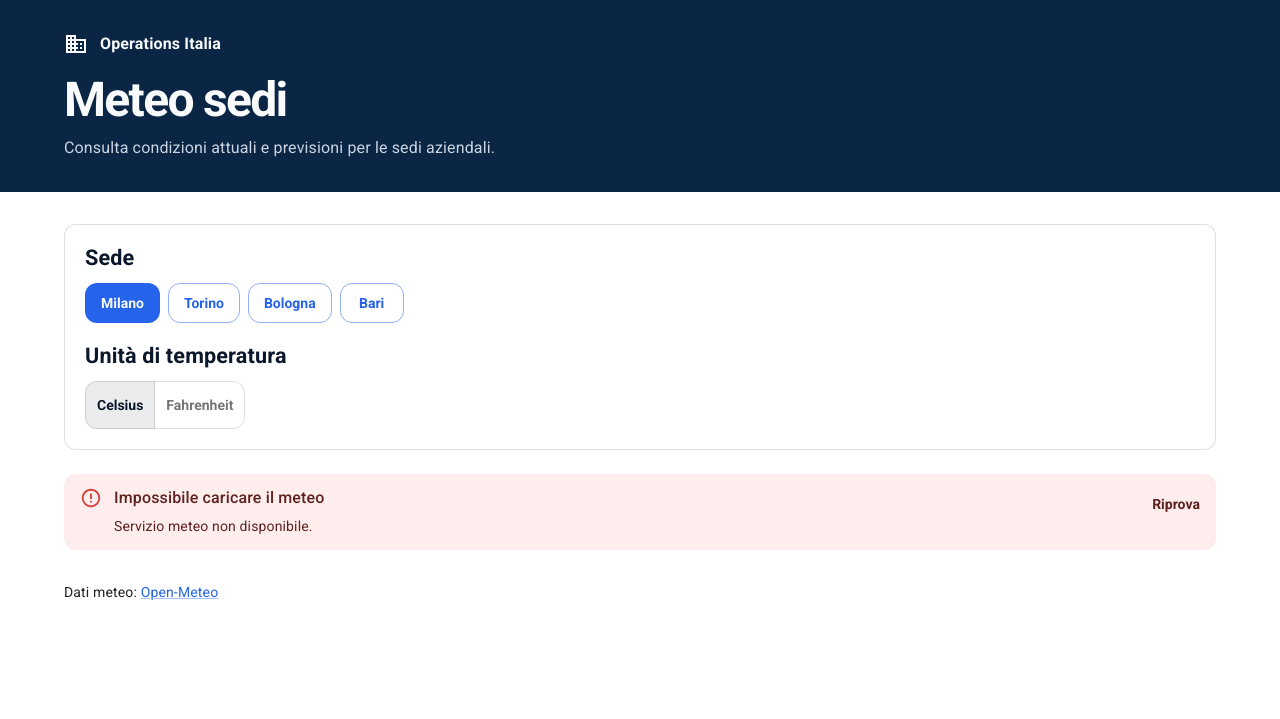
Test: Meteo sedi soluzione › recupera da un errore tramite retry
Expected: the text "Servizio meteo non disponibile." is shown, [114,518,313,534]
Click the button "Riprova" at (1176,504), box [1144,484,1208,524]
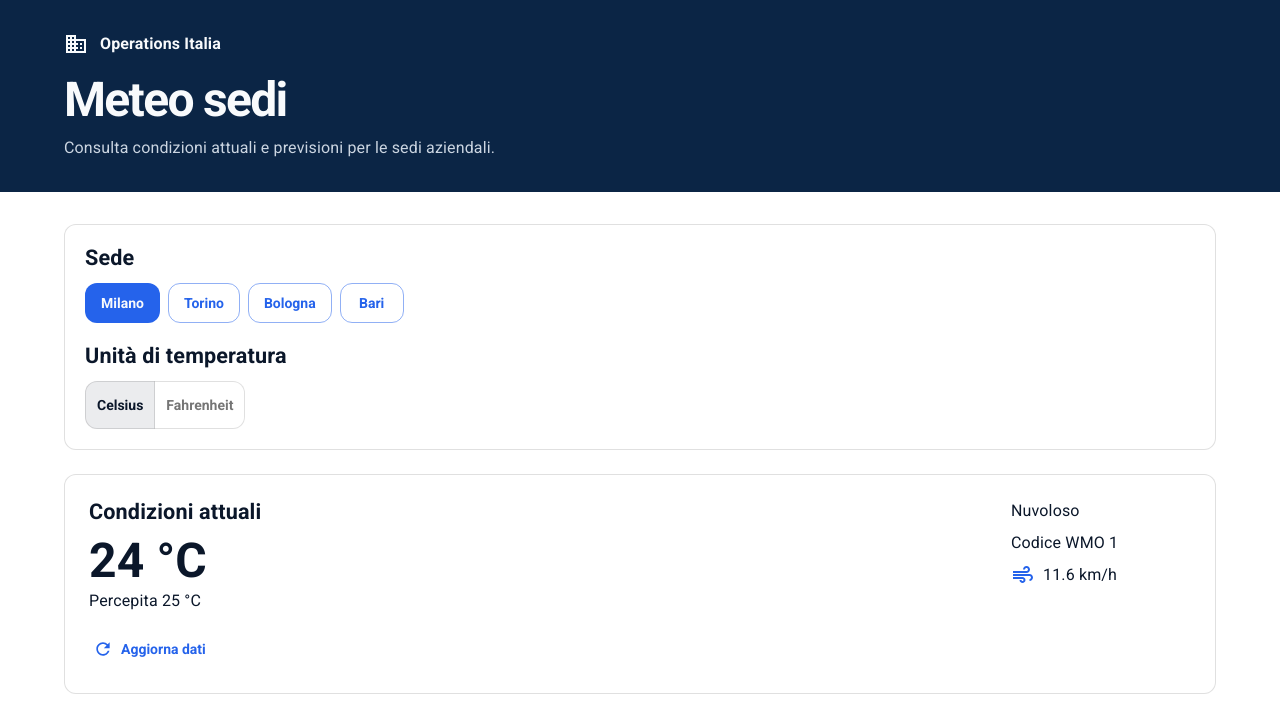
Now the text "24 °C" is shown, box [89,532,207,589]
